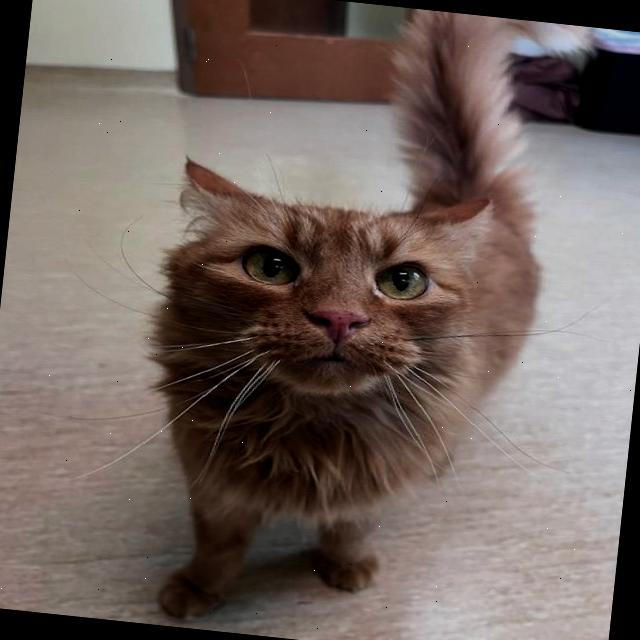domestic_long_hair_cat: (117, 140, 529, 468)
